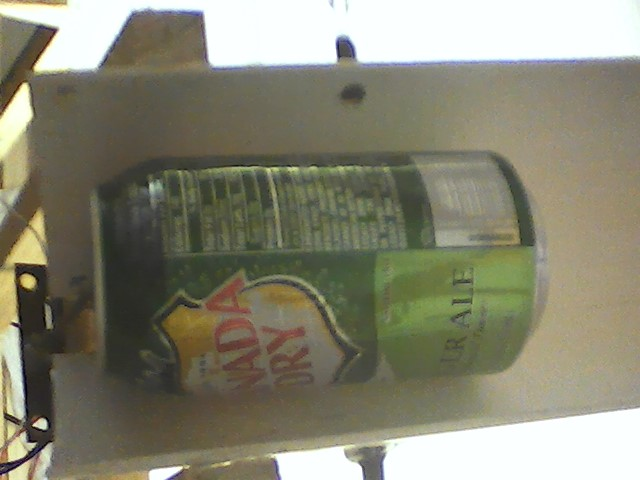lata: (86, 147, 553, 400)
